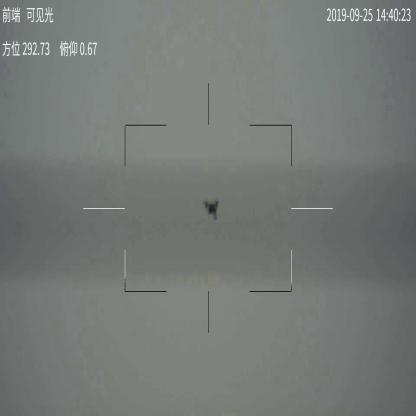uav: (200, 197, 222, 221)
